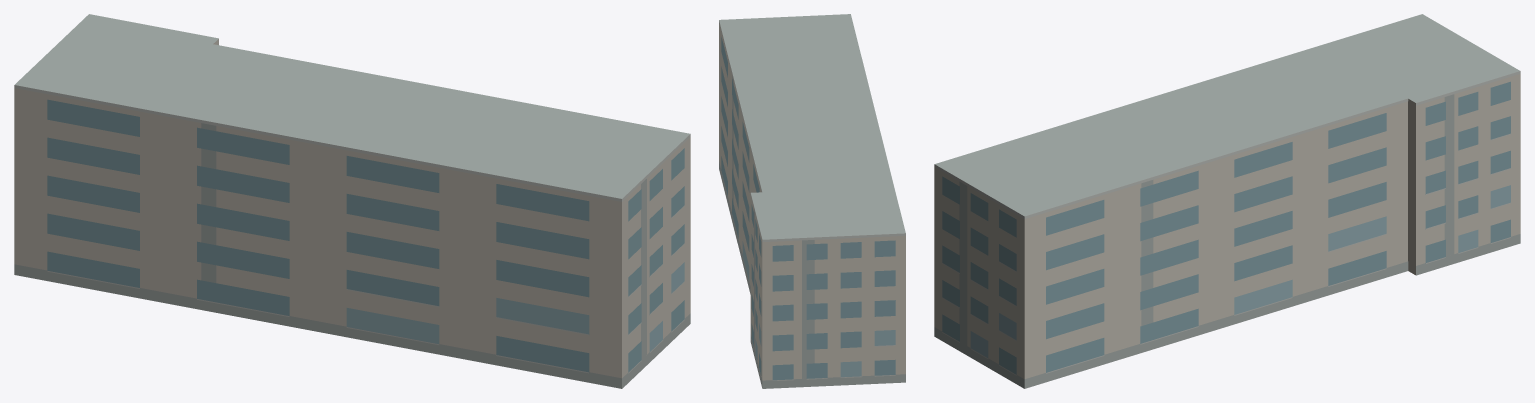
The model's file is residential-8b0f6273-7c10-422c-b430-20ce5416c321.glb.
3 views of the same model, side by side, from view 1: azimuth 30°, elevation 25°; view 2: azimuth 150°, elevation 25°; view 3: azimuth 270°, elevation 25° (orthographic). The views are drawn at different scales.
Parts seen in each view (by area): view 1: residential-8b0f6273-7c10-422c-b430-20ce5416c321.tmp; view 2: residential-8b0f6273-7c10-422c-b430-20ce5416c321.tmp; view 3: residential-8b0f6273-7c10-422c-b430-20ce5416c321.tmp.
Part boxes in pixels (x1,y1,x2,y2): residential-8b0f6273-7c10-422c-b430-20ce5416c321.tmp: [14, 14, 690, 388]; residential-8b0f6273-7c10-422c-b430-20ce5416c321.tmp: [719, 14, 905, 388]; residential-8b0f6273-7c10-422c-b430-20ce5416c321.tmp: [934, 14, 1520, 388].
Size of the model in its own units: 38.41 by 15.25 by 46.98.
